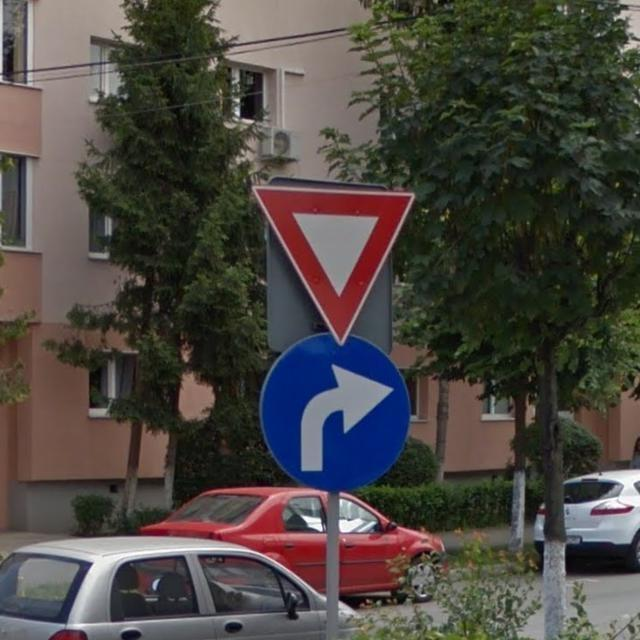prio_give_way: (243, 179, 415, 349)
